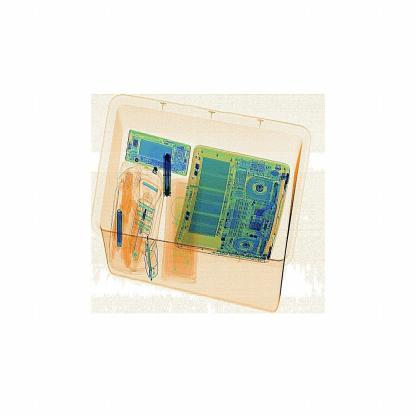scissors: (156, 143, 180, 195)
